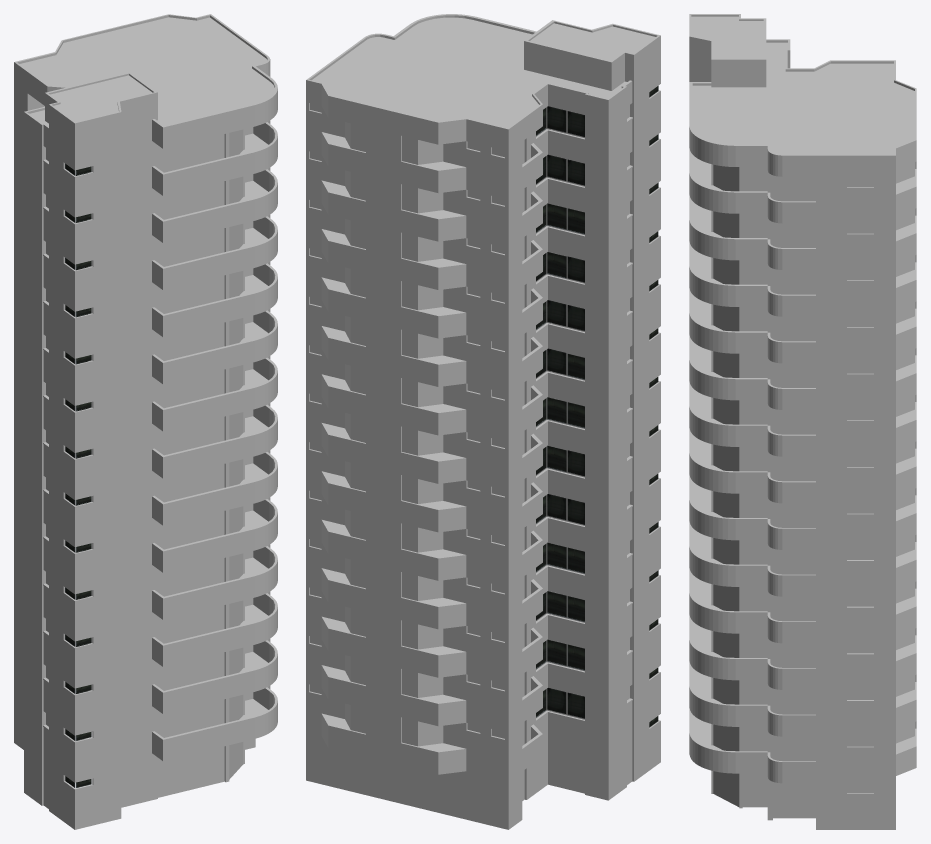
The picture shows the model from 3 angles, left to right: view 1: azimuth 30°, elevation 25°; view 2: azimuth 150°, elevation 25°; view 3: azimuth 270°, elevation 25°; orthographic projection. The views are drawn at different scales.
Parts seen in each view (by area): view 1: BR-002; view 2: BR-002; view 3: BR-002.
Part boxes in pixels (<box>): BR-002: <box>14,14,277,829</box>; BR-002: <box>306,14,660,829</box>; BR-002: <box>689,14,916,829</box>.
Size of what is drawn, in the model's own units: 16.03 by 45 by 13.24.
